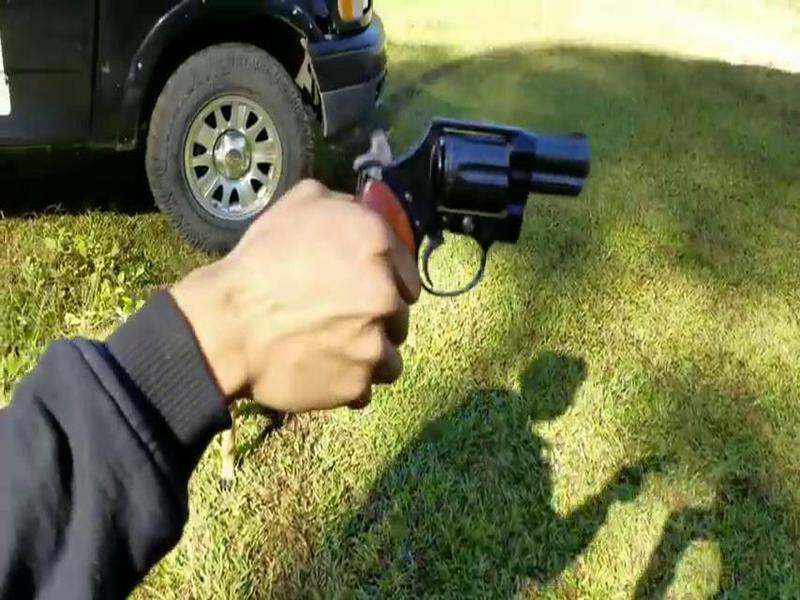Revolver: (351, 96, 616, 302)
